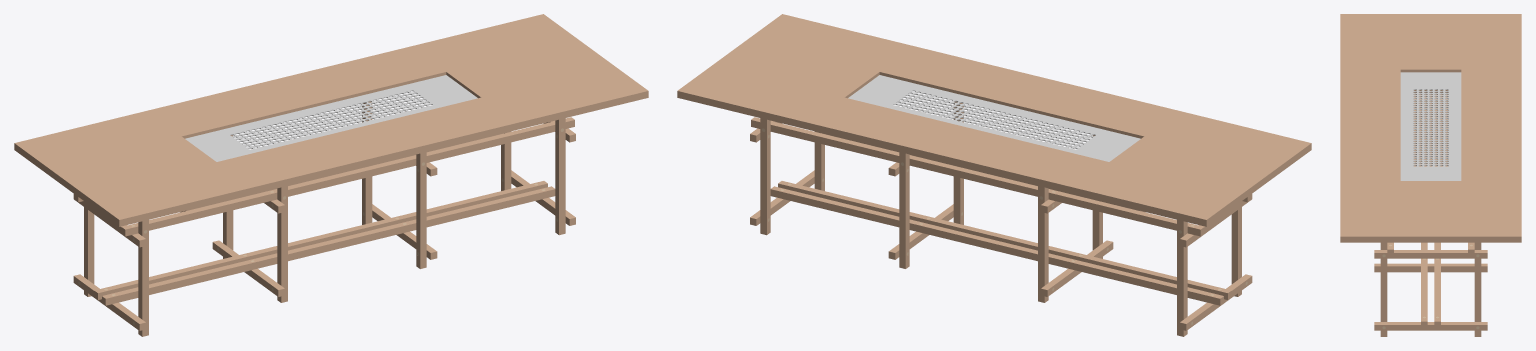
3 renders of one model, left to right at view 1: azimuth 30°, elevation 25°; view 2: azimuth 150°, elevation 25°; view 3: azimuth 270°, elevation 25°, orthographic. The views are drawn at different scales.
Visible parts, largest first — view 1: Layer 03, Layer 01; view 2: Layer 03, Layer 01; view 3: Layer 03, Layer 01.
Part boxes in pixels (x1,y1,x2,y2): Layer 03: [14, 14, 648, 336]; Layer 01: [185, 75, 477, 161]; Layer 03: [677, 14, 1311, 336]; Layer 01: [848, 75, 1140, 161]; Layer 03: [1340, 14, 1521, 336]; Layer 01: [1400, 72, 1461, 180].
Bounding box in the file's own units: 1.52 × 0.4001 × 0.5239.
